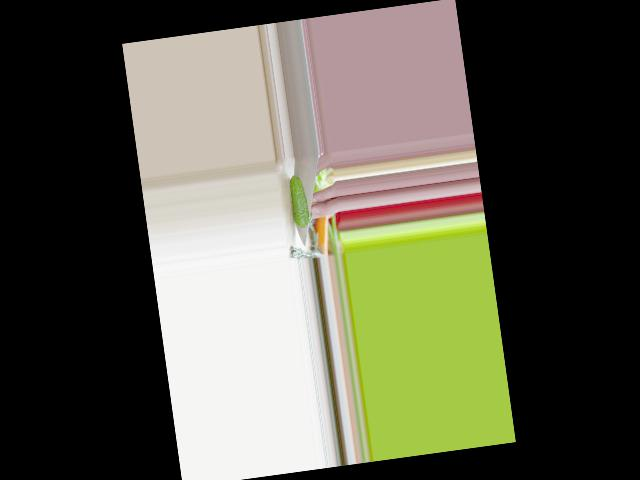cucumber: (287, 174, 310, 229)
